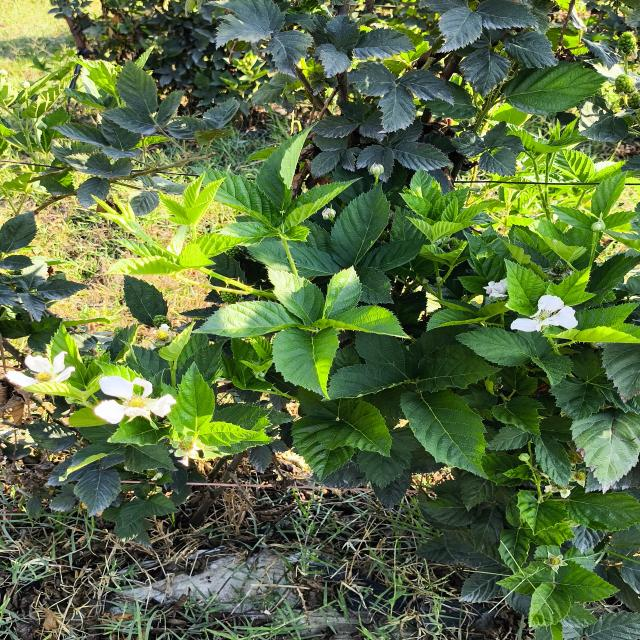boton: (369, 163, 383, 183), (322, 207, 336, 221)
flor: (94, 376, 177, 423), (511, 294, 578, 332), (7, 351, 75, 387)
